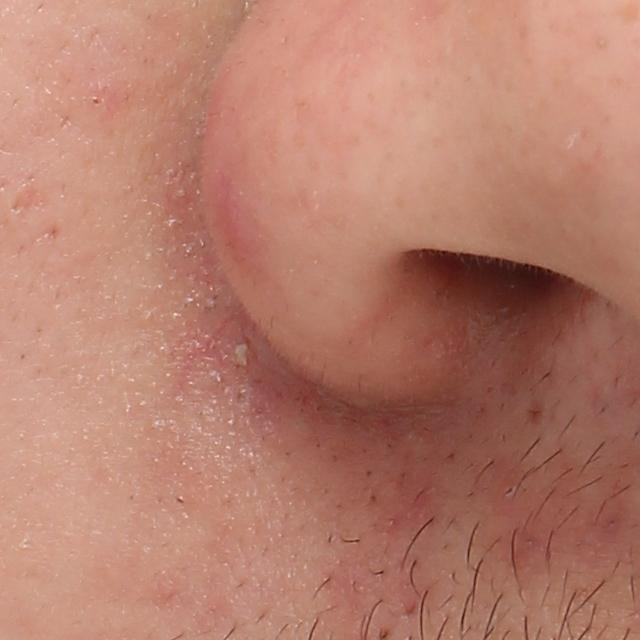atrophic_scar: (7, 184, 49, 226)
pustule: (227, 341, 251, 372)
